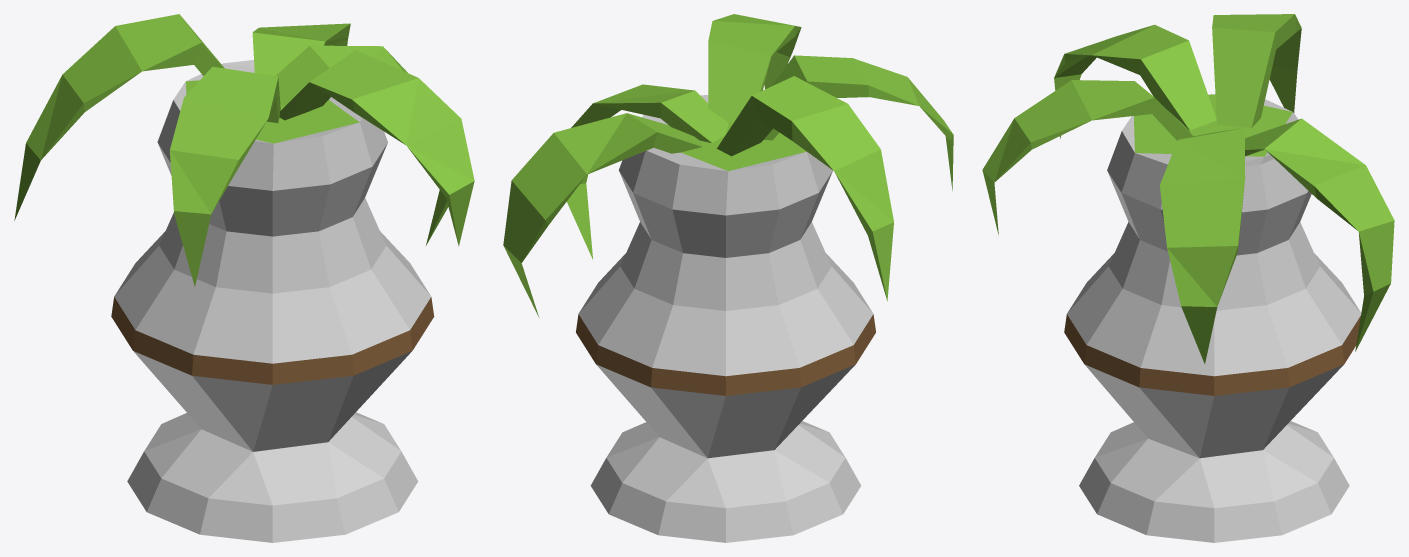
Rendered from plant_vase.fbx.
The picture shows the model from 3 angles, left to right: view 1: azimuth 30°, elevation 25°; view 2: azimuth 150°, elevation 25°; view 3: azimuth 270°, elevation 25°; orthographic projection. The views are drawn at different scales.
Parts seen in each view (by area): view 1: plant_vase; view 2: plant_vase; view 3: plant_vase.
Part boxes in pixels (x1=…): plant_vase: x1=14, y1=14, x2=474, y2=542; plant_vase: x1=503, y1=14, x2=953, y2=542; plant_vase: x1=982, y1=14, x2=1394, y2=542.
Bounding box in the file's own units: 30.5 × 33.87 × 29.69.
